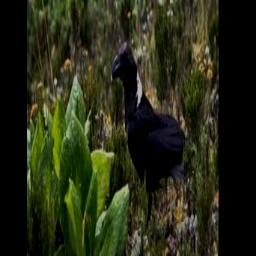Crow: (111, 38, 186, 229)
